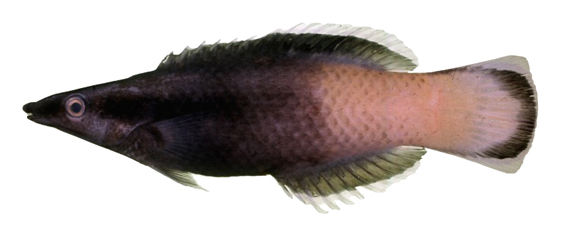fish: (22, 21, 540, 213)
